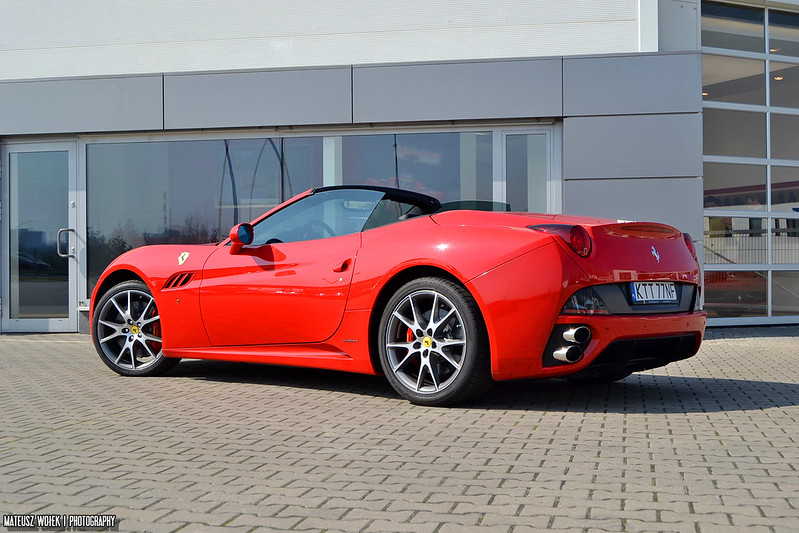car: (87, 181, 711, 409)
